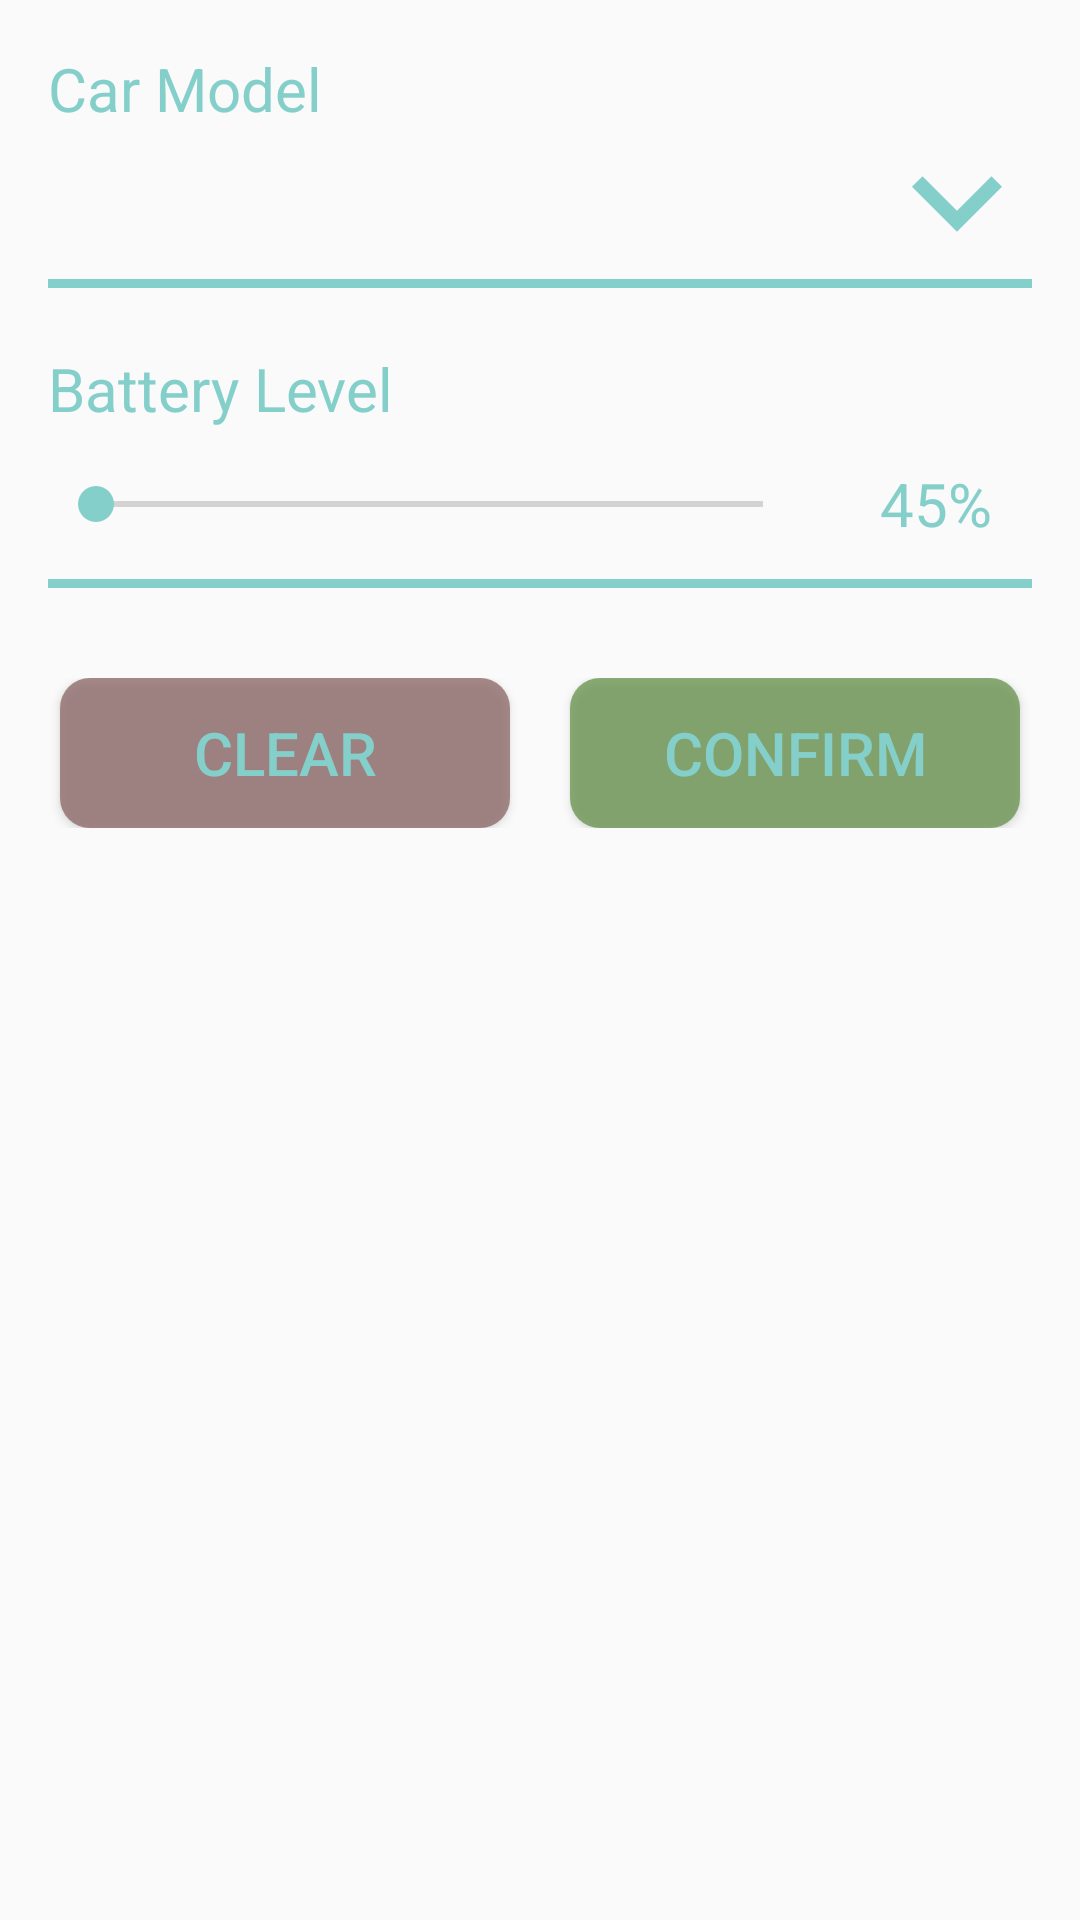

Screen size 1080*1920. Icon name, then its box in pixels as (x1, y1, x2, y2):
expand: (912, 176, 1002, 232)
